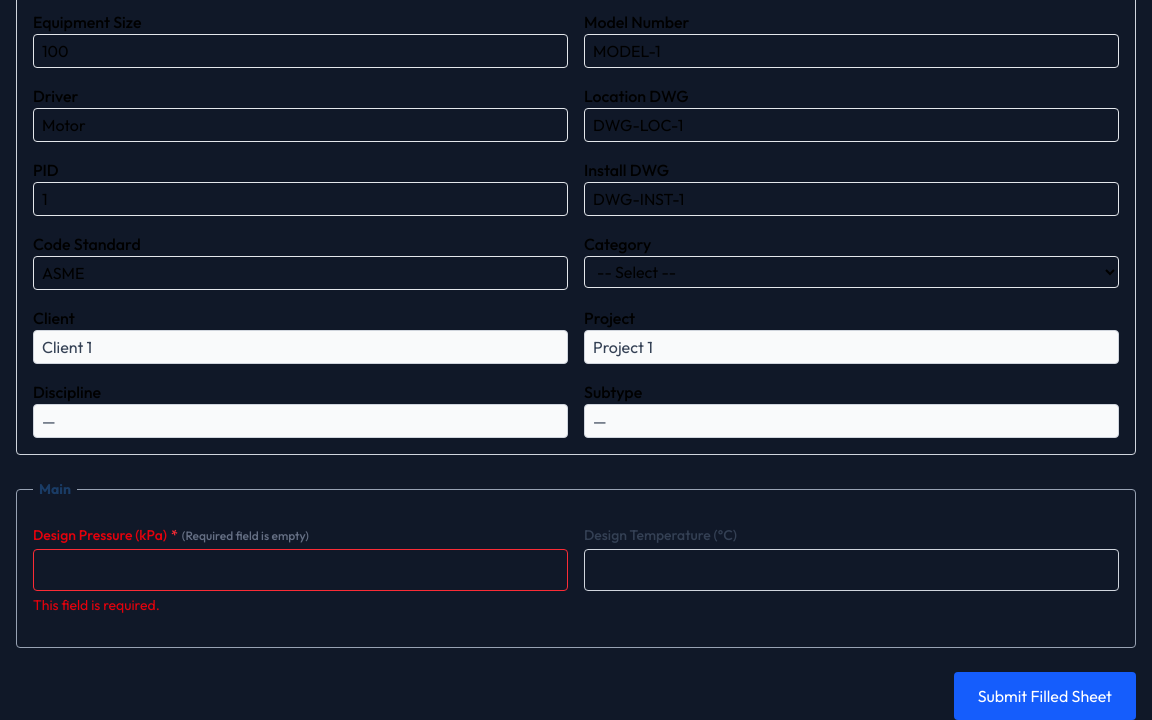
FilledSheetCreatorForm › blocks submit when required decimal is blank
The width and height of the screenshot is (1152, 720).
(page scrolled)
What coordinates should you click on to do the following:
click the button "Submit Filled Sheet"
I would click on:
 (1045, 696)
Its box is [954, 672, 1136, 719].
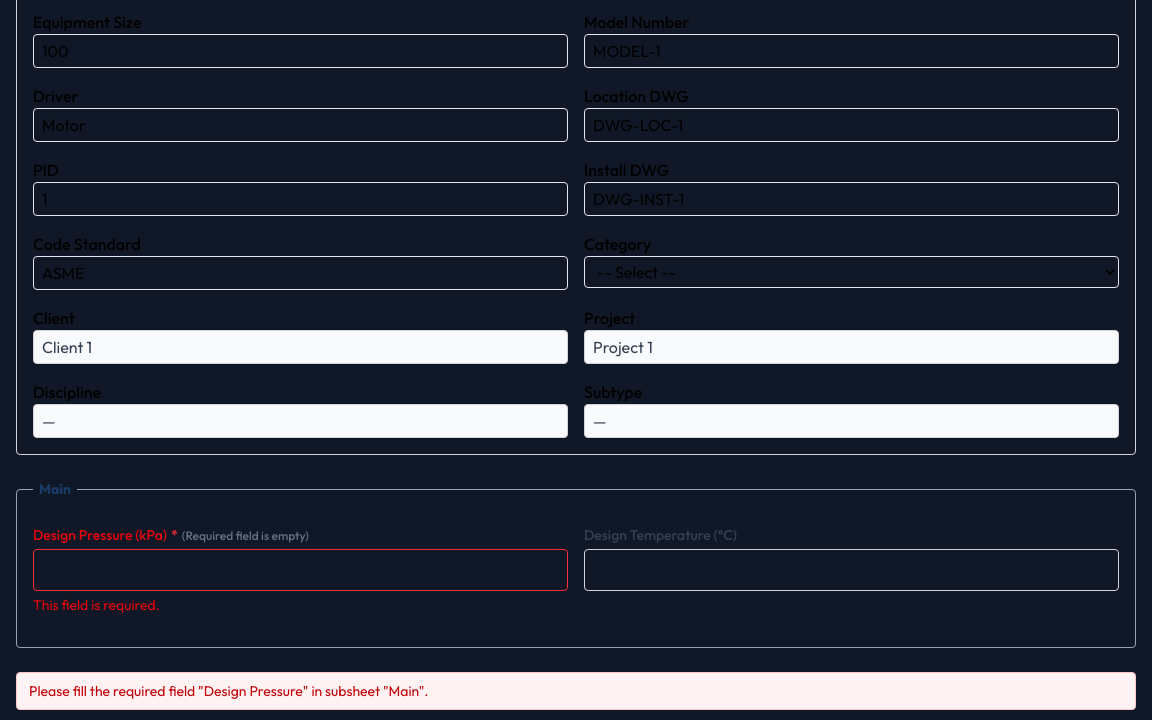
Now the text "Please fill the required field" is shown, box [29, 682, 428, 700]
